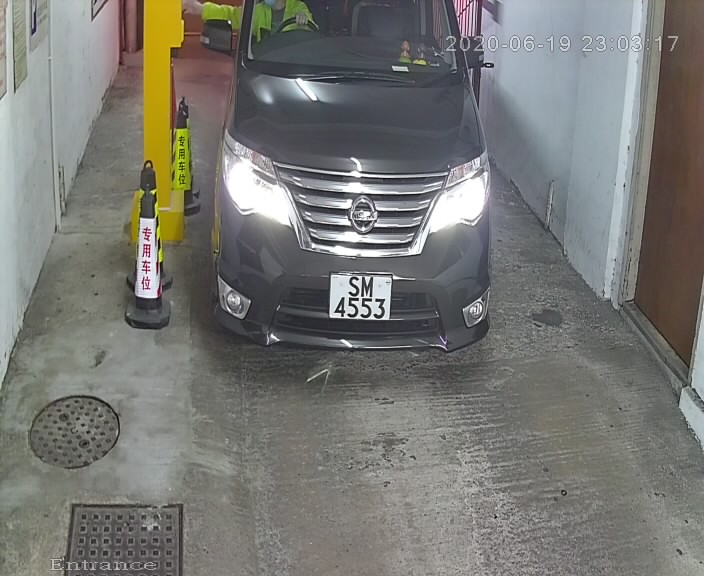privatecar: (211, 3, 518, 380)
